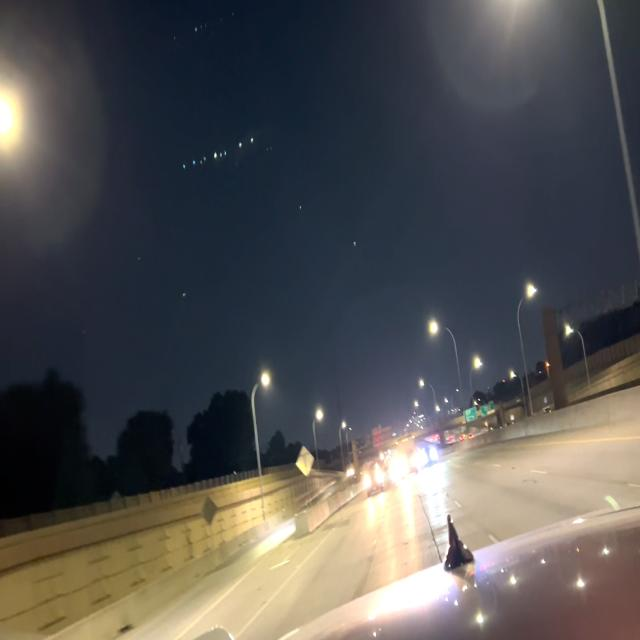back-of-sign: (296, 443, 315, 482)
